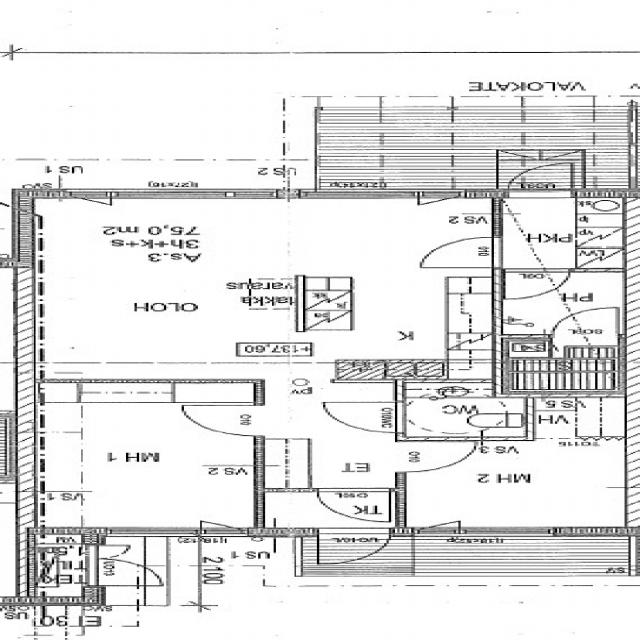door: (318, 528, 390, 566), (182, 405, 264, 436), (324, 402, 406, 433), (397, 441, 478, 472), (421, 237, 502, 268), (318, 488, 390, 522), (82, 558, 168, 586), (508, 162, 571, 198), (554, 307, 618, 341), (504, 268, 570, 300), (83, 545, 135, 558)
